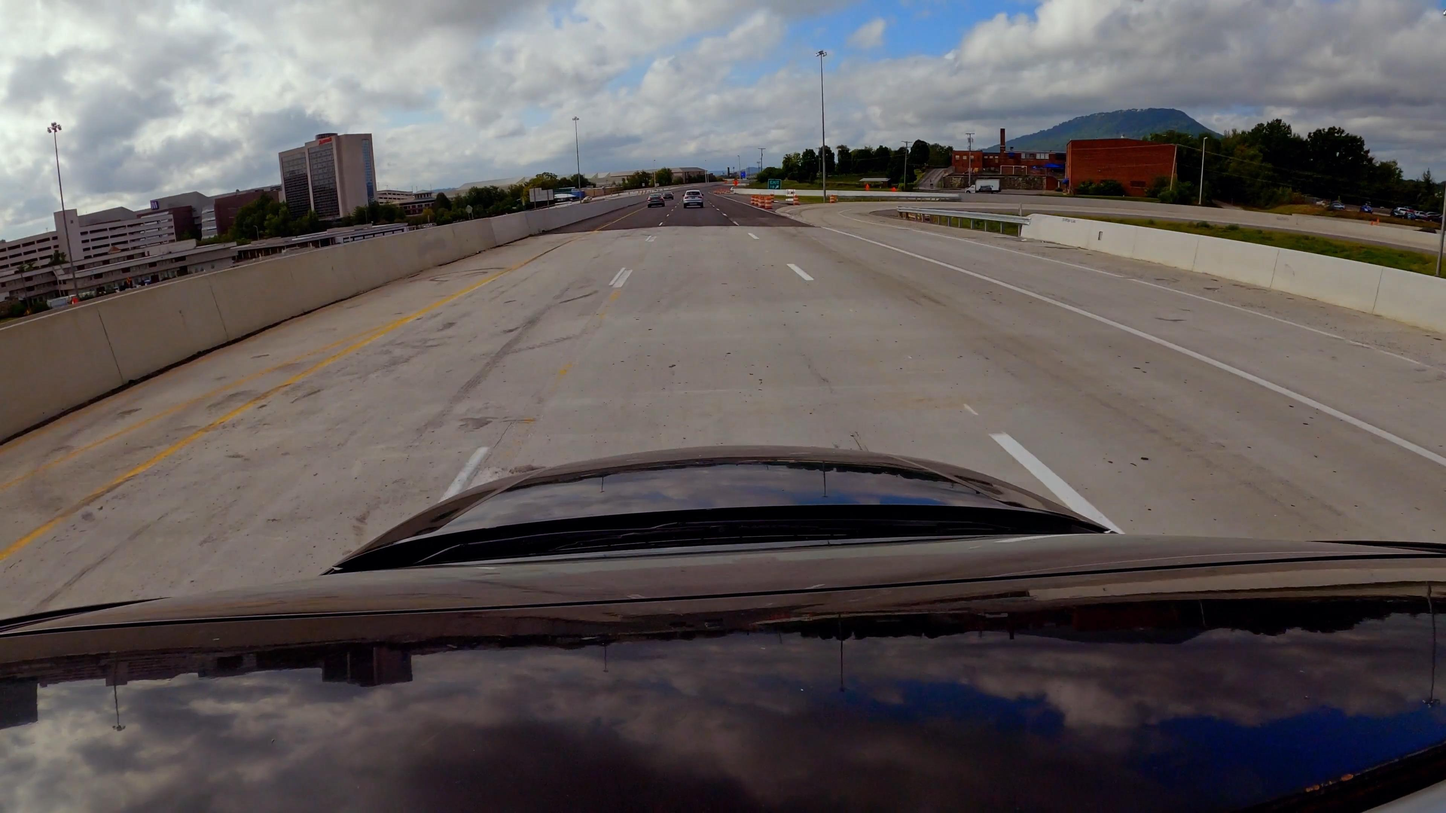dry: (0, 190, 1446, 618)
